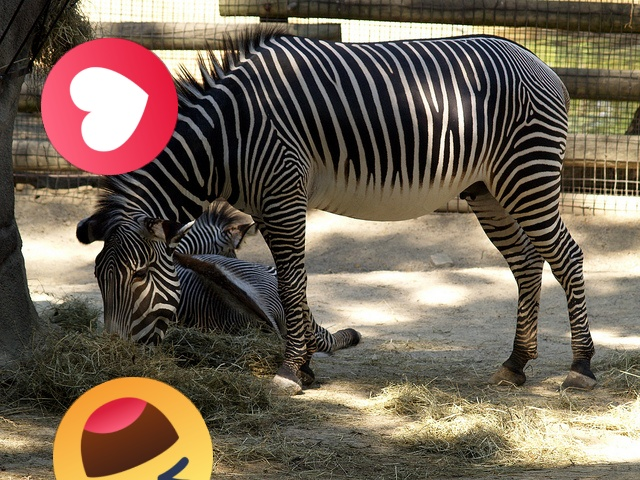haha: (53, 377, 213, 480)
love: (41, 38, 178, 175)
